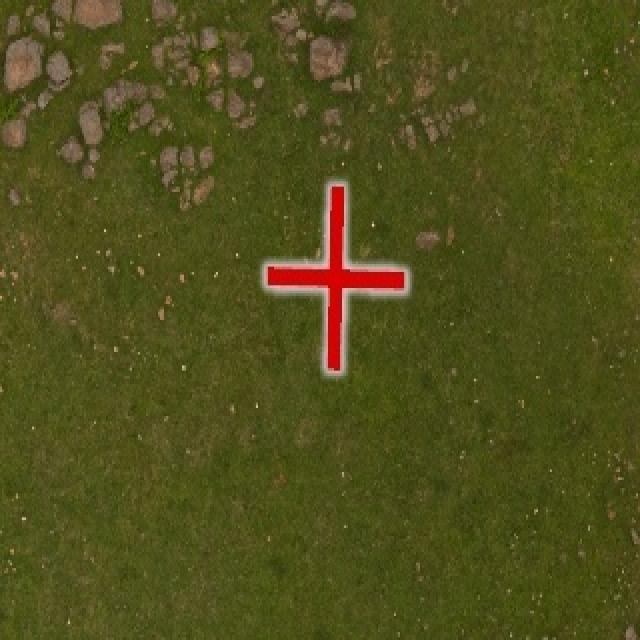x_marker: (265, 186, 405, 370)
